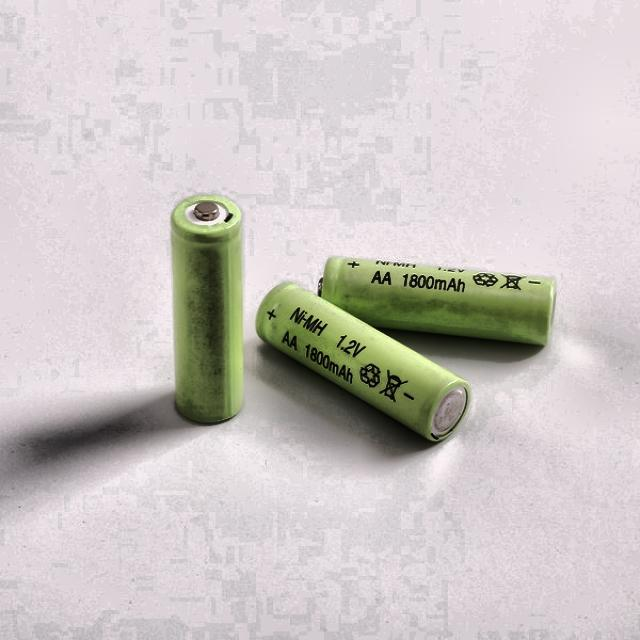Non-Valuable Waste - Batteries: (256, 284, 470, 441), (319, 258, 555, 344), (171, 195, 242, 422)
